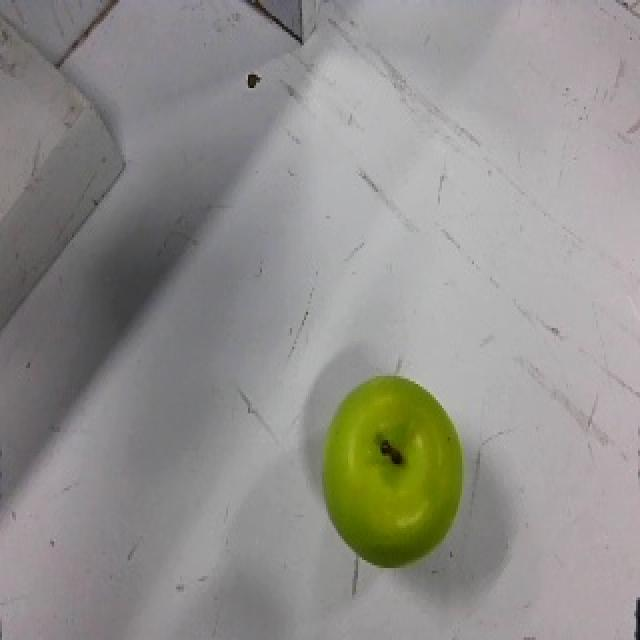apple: (321, 372, 466, 568)
